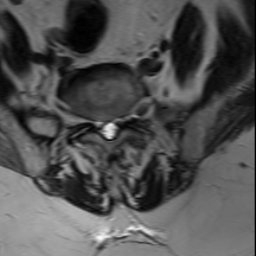CCS_stenosis: (104, 112, 112, 145)
LFS_stenosis: (120, 100, 129, 131)
LLS_stenosis: (112, 113, 120, 143)
RFS_severe_stenosis: (86, 107, 95, 134)
RLS_normal: (95, 113, 104, 143)
